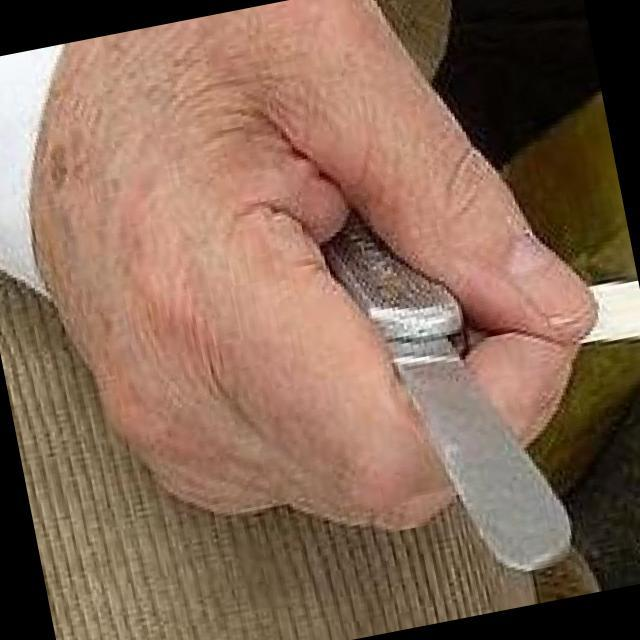Knife: (271, 162, 598, 603)
